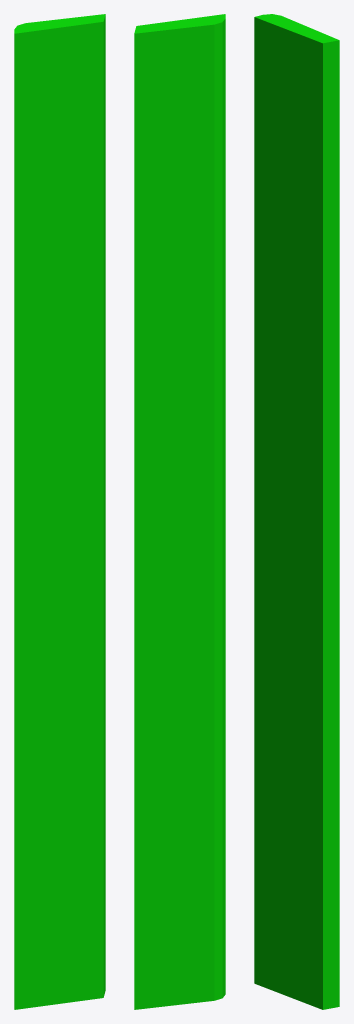
The picture shows the model from 3 angles, left to right: view 1: azimuth 30°, elevation 25°; view 2: azimuth 210°, elevation 25°; view 3: azimuth 330°, elevation 25°; orthographic projection.
Visible parts, largest first — view 1: Plane.042; view 2: Plane.042; view 3: Plane.042.
Boxes of the visible parts, box(x1,y1,x2,y2) form: Plane.042: box(14, 14, 105, 1009); Plane.042: box(134, 14, 225, 1009); Plane.042: box(254, 14, 339, 1009).
Size of the model in its own units: 1095 by 11525 by 387.
